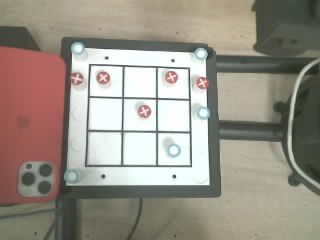blue circle: (64, 169, 79, 183), (167, 144, 180, 157), (197, 106, 210, 119), (194, 48, 208, 60), (71, 42, 84, 54)
board: (65, 42, 210, 185)
cells: (87, 132, 121, 164), (158, 133, 190, 165), (89, 98, 122, 129), (123, 99, 155, 130), (123, 133, 155, 164), (158, 100, 189, 131), (90, 66, 122, 96), (158, 68, 190, 98), (124, 67, 155, 97)
grid: (85, 64, 191, 166)
red cross: (137, 104, 151, 117), (96, 71, 110, 84), (70, 72, 83, 85), (165, 71, 178, 83), (196, 77, 208, 88)
